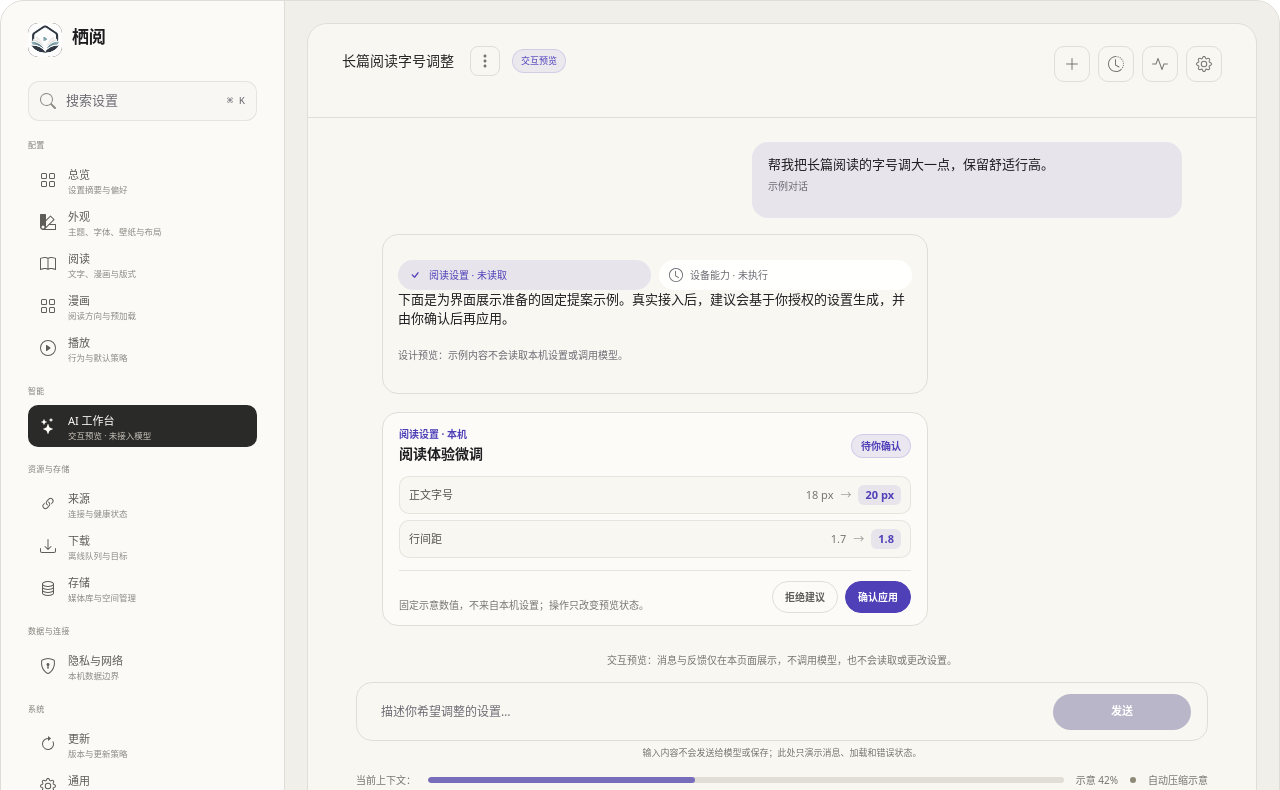
Test case: AIWorkbenchPreviewPage › renames the active preview conversation and reflects the title in history
Click the button named "会话操作": x=485, y=61 left=470, top=46, right=500, bottom=76
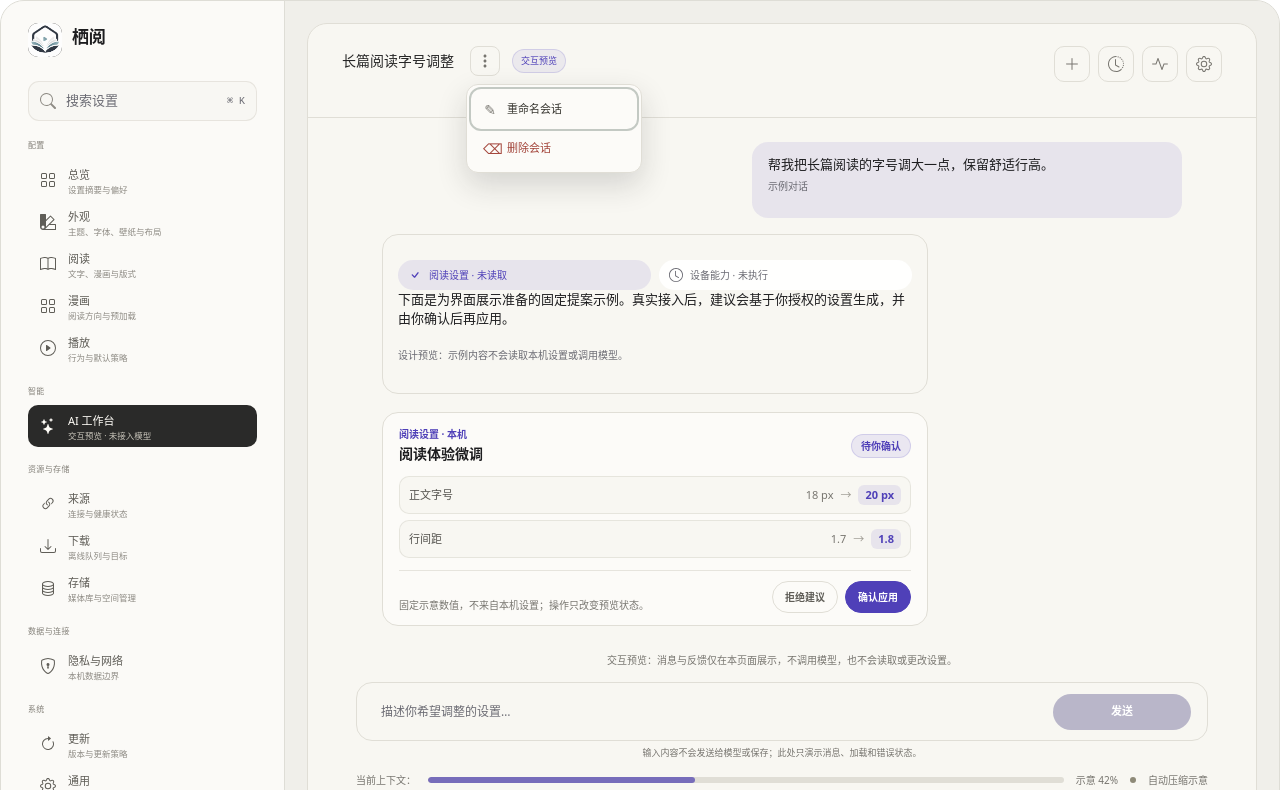
Click the menu item "✎ 重命名会话": x=554, y=109 left=473, top=91, right=635, bottom=127
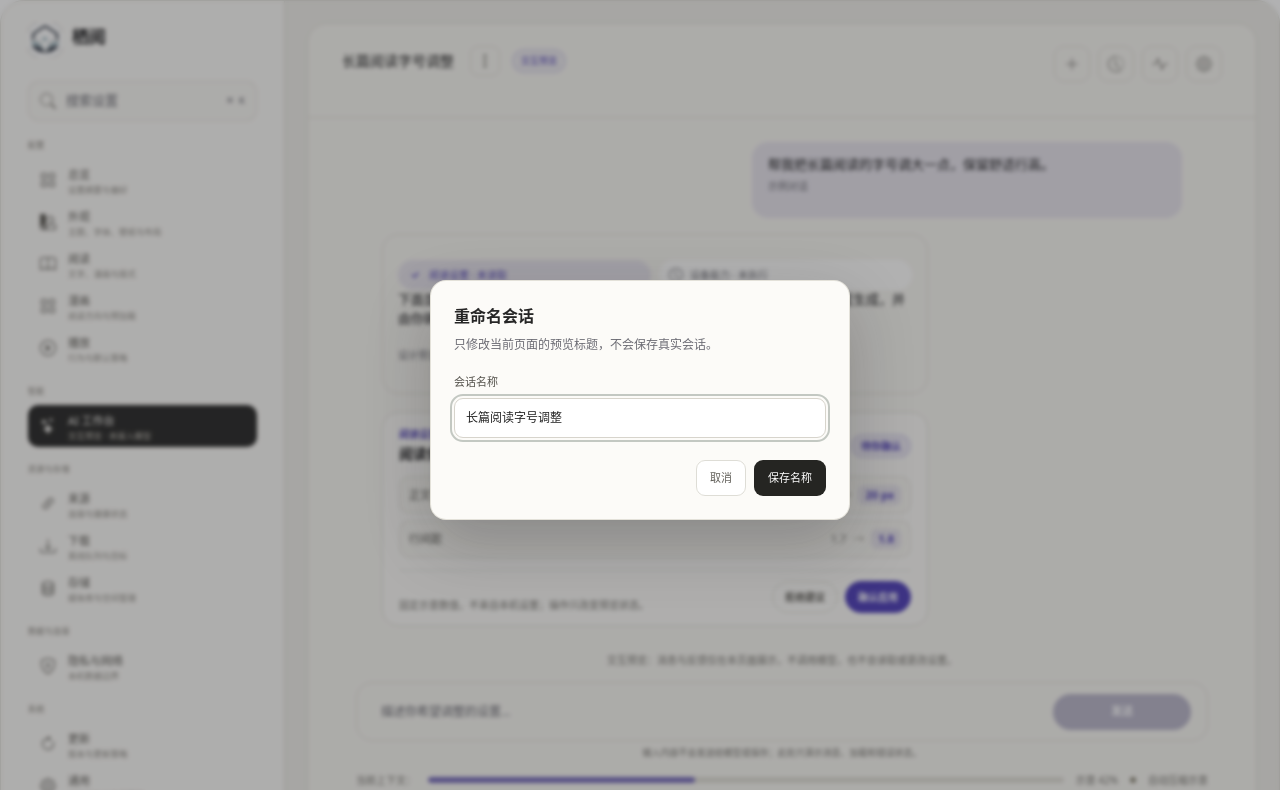
Check: the field labelled "会话名称" holds "长篇阅读字号调整"
Replace the text in the field labelled "会话名称" with "  我的阅读助手  ": x=640, y=418 left=454, top=398, right=826, bottom=438
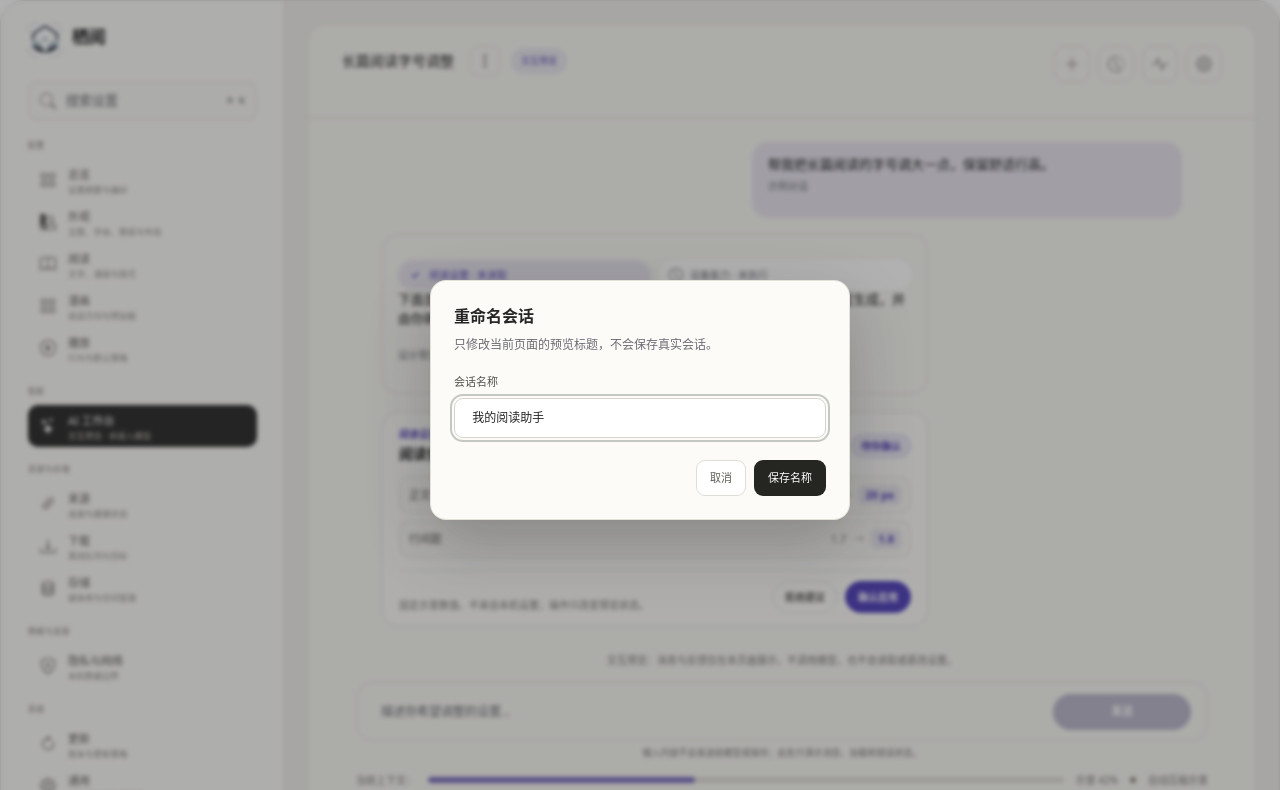
Click the button "保存名称": x=790, y=478 left=754, top=460, right=826, bottom=496
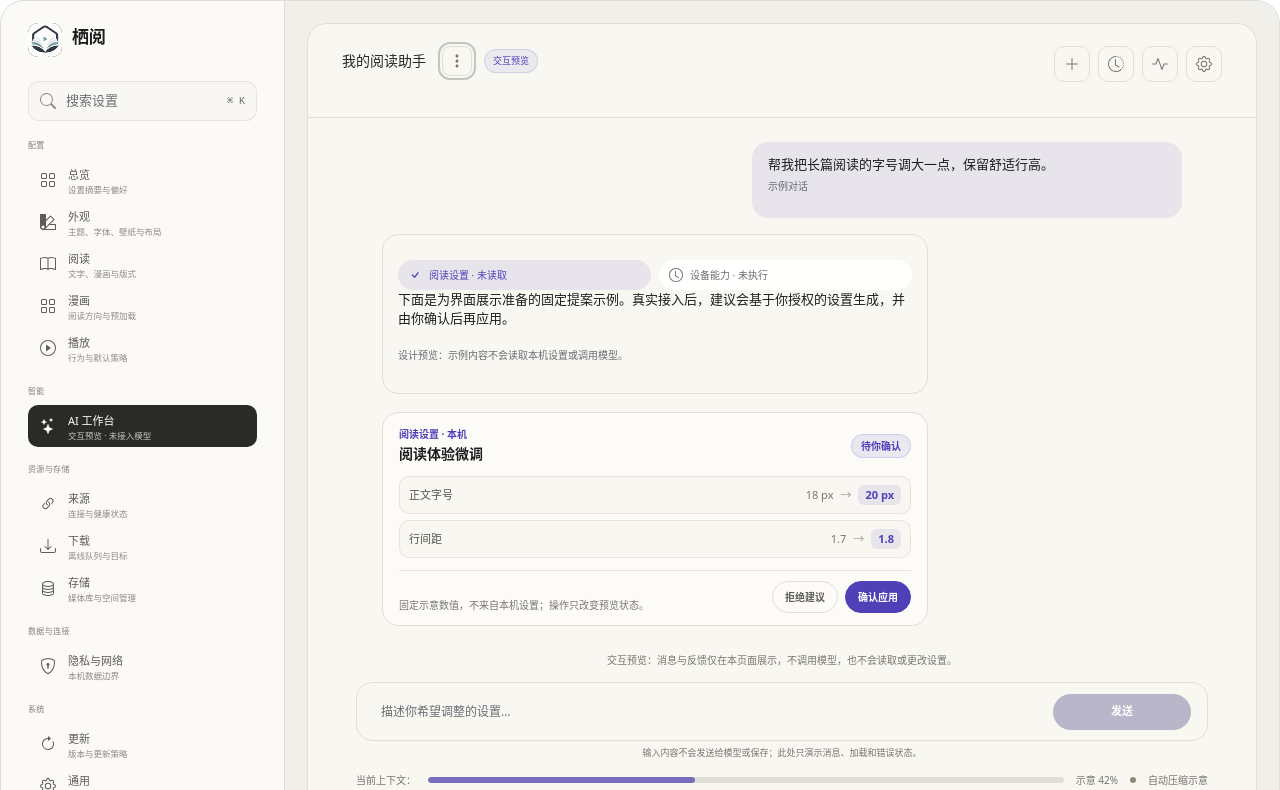
Check: the heading "我的阅读助手" is shown, box left=342, top=49, right=426, bottom=73
Click the button named "会话历史": x=1116, y=64 left=1098, top=46, right=1134, bottom=82
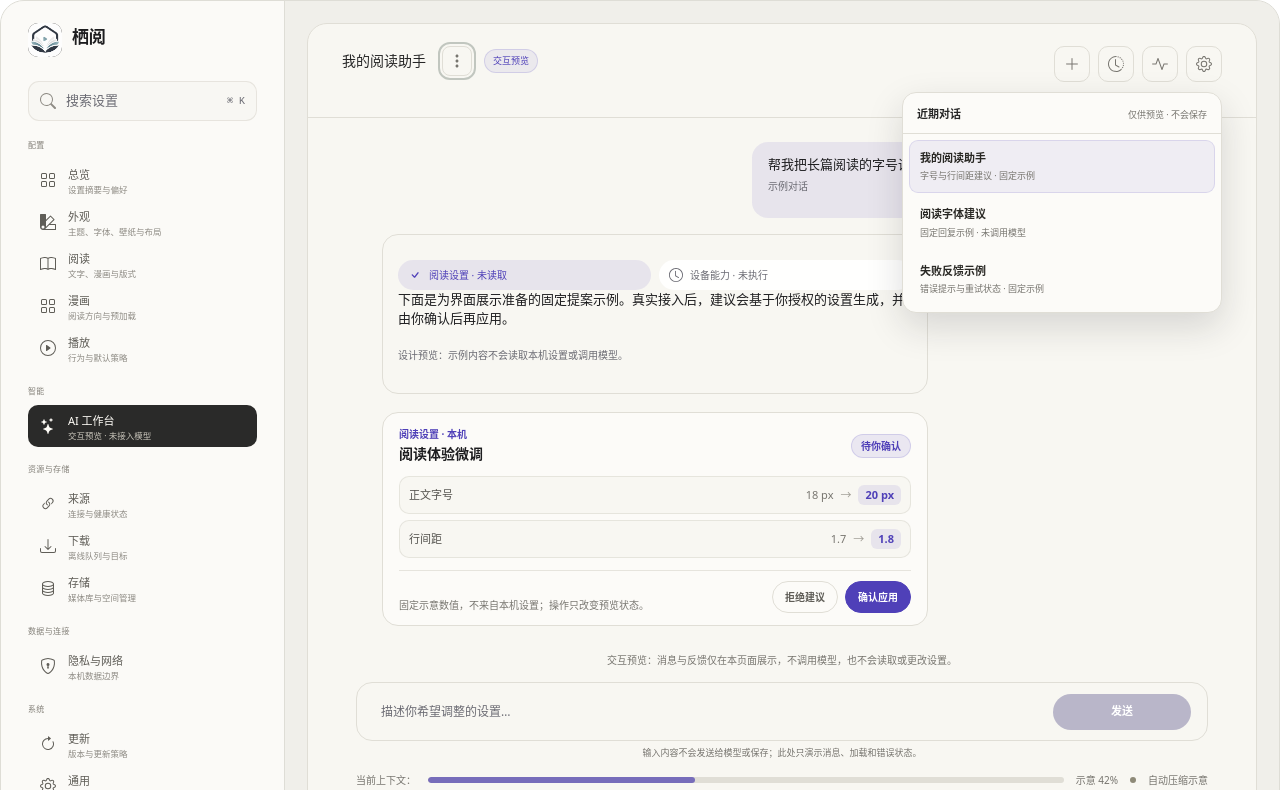
Check: the button "我的阅读助手 字号与行间距建议 · 固定示例" is shown, box left=909, top=140, right=1215, bottom=193
